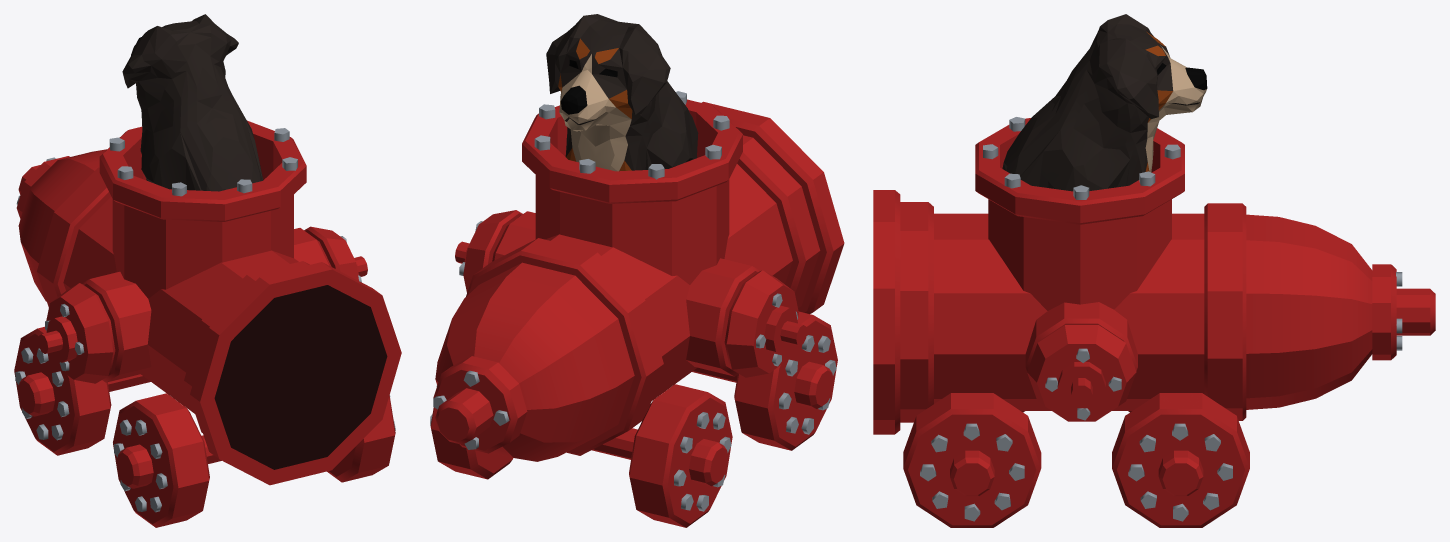
The model's file is dog.FBX.
3 views of the same model, side by side, from view 1: azimuth 30°, elevation 25°; view 2: azimuth 150°, elevation 25°; view 3: azimuth 270°, elevation 25° (orthographic). The views are drawn at different scales.
Parts seen in each view (by area): view 1: dog, Group51315, Cylinder001; view 2: dog, Group51315, Cylinder001; view 3: dog, Group51315, Cylinder001.
Boxes of the visible parts, left/top/right/bottom form: dog: left=14, top=120, right=401, bottom=527; Group51315: left=122, top=14, right=263, bottom=191; Cylinder001: left=15, top=128, right=395, bottom=512; dog: left=430, top=99, right=844, bottom=527; Group51315: left=546, top=14, right=698, bottom=171; Cylinder001: left=430, top=91, right=836, bottom=511; dog: left=873, top=118, right=1435, bottom=527; Group51315: left=1002, top=14, right=1207, bottom=191; Cylinder001: left=920, top=117, right=1402, bottom=521.
Size of the model in its own units: 19.89 by 25.03 by 28.63.
1 material, 1 textured.
